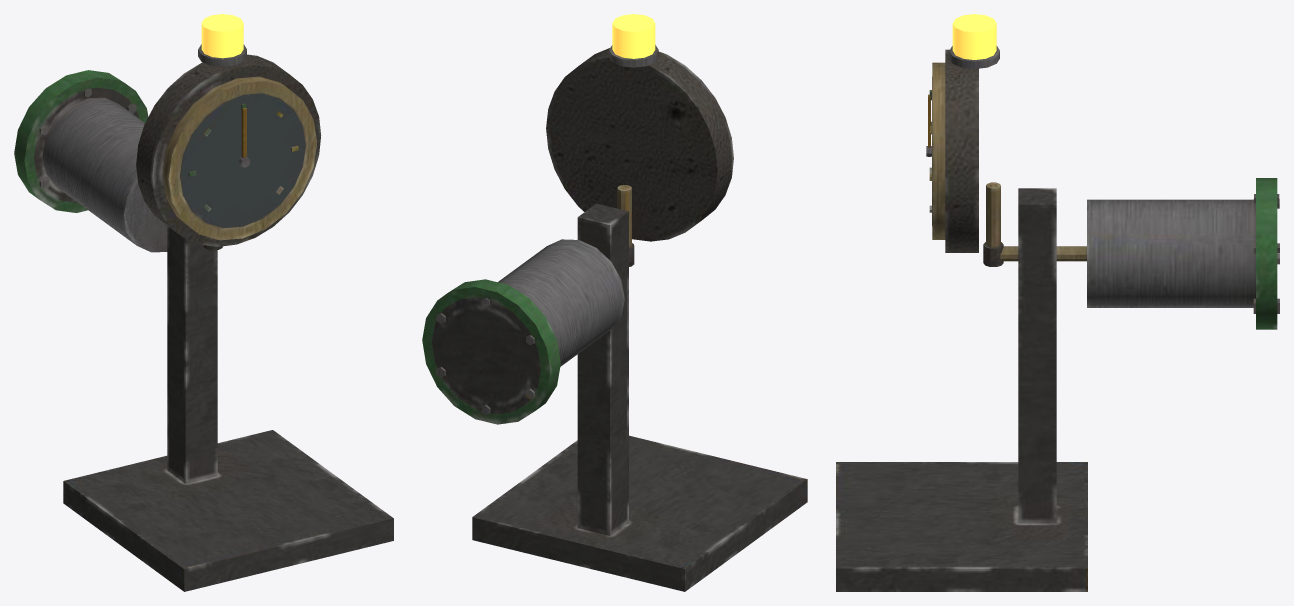
File: feGauge.glb
3 renders of one model, left to right at view 1: azimuth 30°, elevation 25°; view 2: azimuth 150°, elevation 25°; view 3: azimuth 270°, elevation 25°, orthographic. The views are drawn at different scales.
Visible parts, largest first — view 1: feGauge_Base; view 2: feGauge_Base; view 3: feGauge_Base.
Part boxes in pixels (bbox=[...]): feGauge_Base: bbox=[14, 14, 393, 591]; feGauge_Base: bbox=[422, 14, 807, 591]; feGauge_Base: bbox=[836, 14, 1279, 591].
Size of the model in its own units: 0.4012 by 0.9056 by 0.7066.
2 materials, 1 textured.
